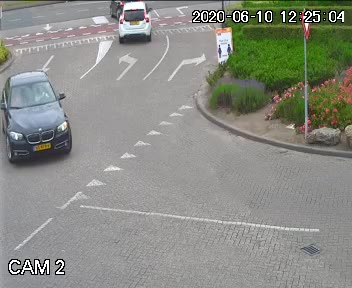car: (0, 60, 81, 166), (110, 1, 154, 47)
